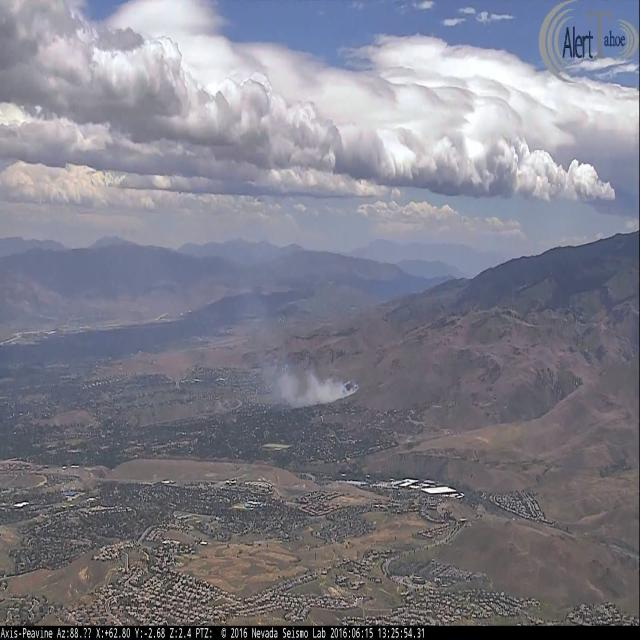smoke: (277, 366, 358, 413)
